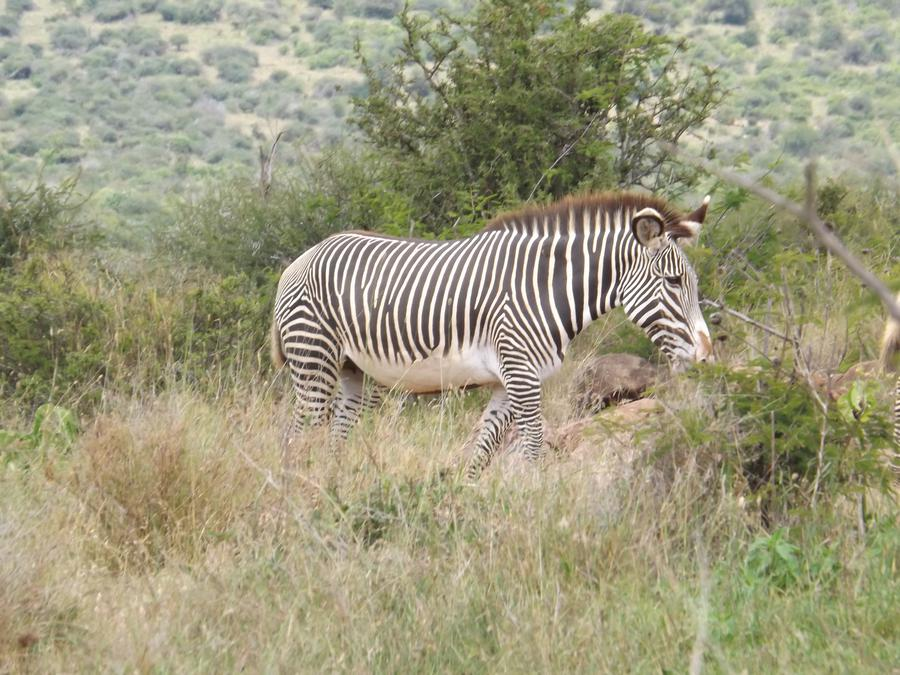zebra_grevys: (279, 221, 561, 381)
